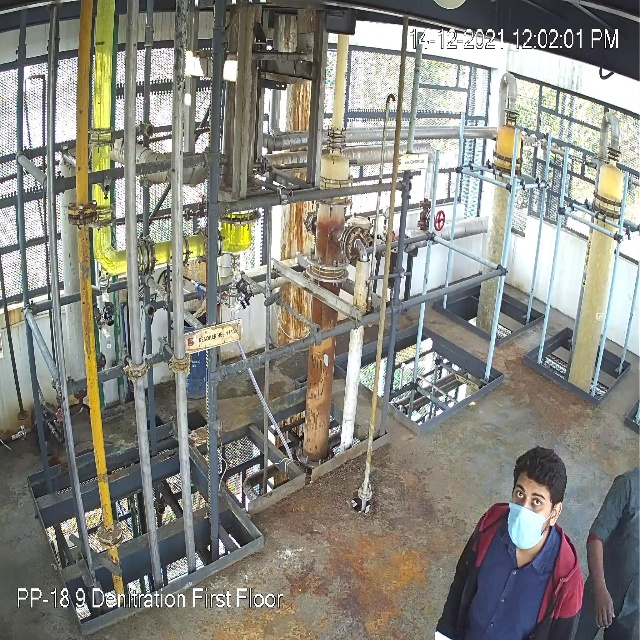Sin_gafas: (509, 487, 546, 515)
